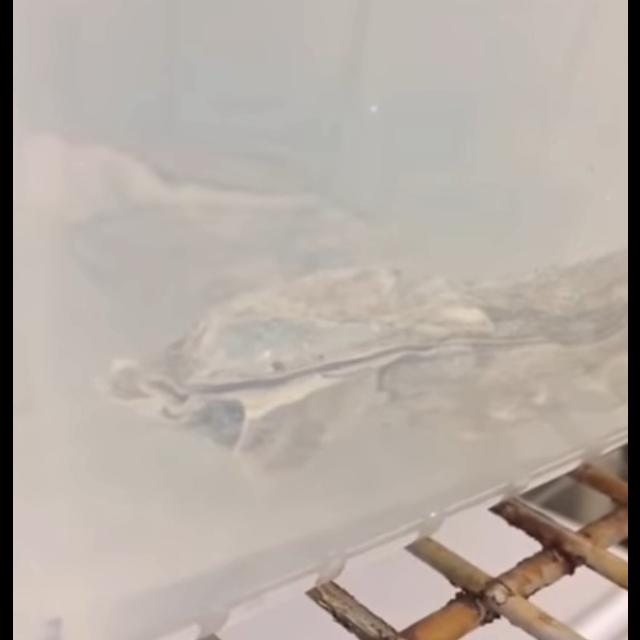Oyster-Closed: (94, 249, 628, 471), (56, 132, 342, 240)
